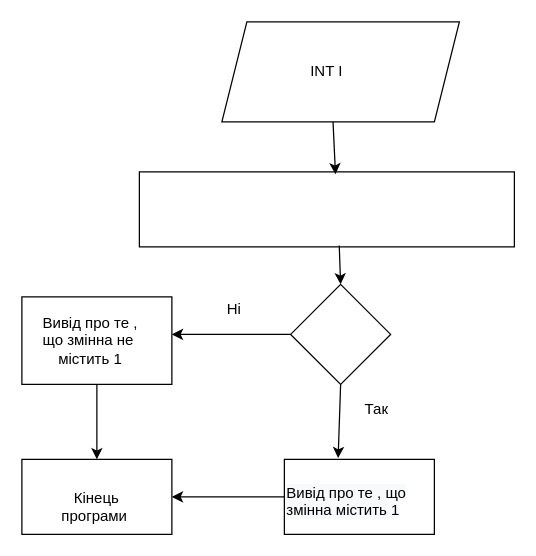
Image size: 536x556. Some labels were removed from this diagram. Each missing label, with the centre of its shape:
"bool b = (i & 0x1) || (i & 0x2) || (i & 0x4) || (i & 0x8) || (i & 0x10);" goes at [326,209].
"if(B)" goes at [340,333].
